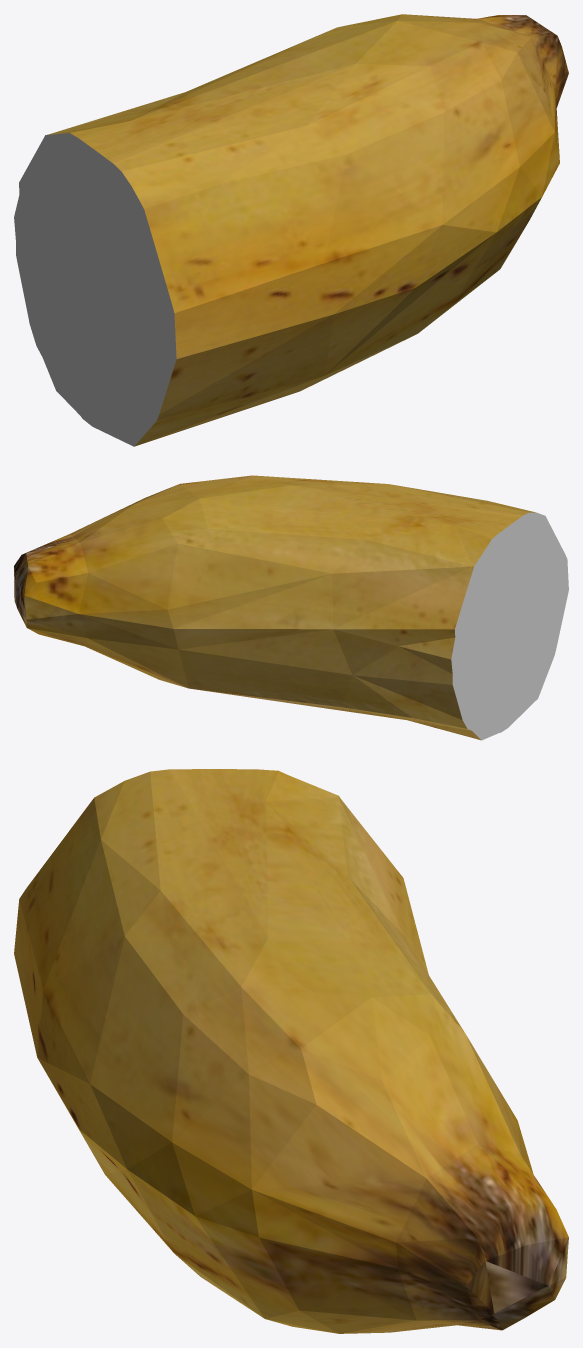
Rendered from banaanO.obj.
3 renders of one model, top to bottom at view 1: azimuth 30°, elevation 25°; view 2: azimuth 150°, elevation 25°; view 3: azimuth 270°, elevation 25°, orthographic. The views are drawn at different scales.
Visible parts, largest first — view 1: Object.1; view 2: Object.1; view 3: Object.1.
Part boxes in pixels (x1,y1,x2,y2): Object.1: [14, 14, 568, 446]; Object.1: [14, 475, 568, 740]; Object.1: [14, 769, 568, 1333].
Size of the model in its own units: 28.15 by 13.08 by 19.01.
Materials: 2 (1 with a texture image).
